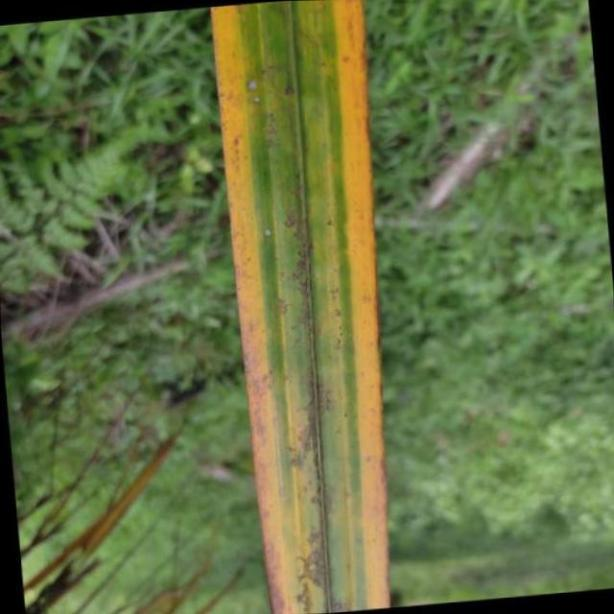Megnesium: (209, 0, 387, 614)
